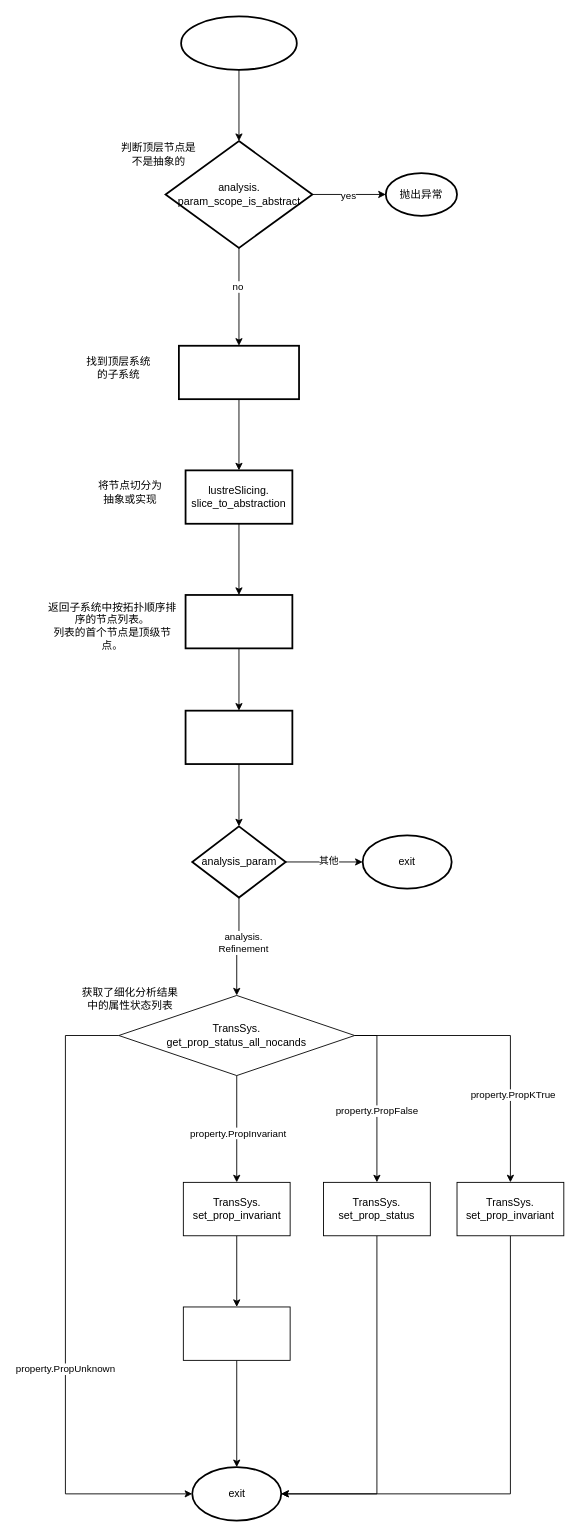
Image size: 579x1536. Some labels were removed from this diagram. The centre of each missing label's shape, as x and y in pixels:
lustreNode. nodes_of_subsystem: (238,621)
SubSystem. find_subsystem_of_list: (238,372)
trans_sys_of_node: (238,737)
trans_sys_of_nodes: (238,42)
TransSys. add_invariant: (236,1333)
